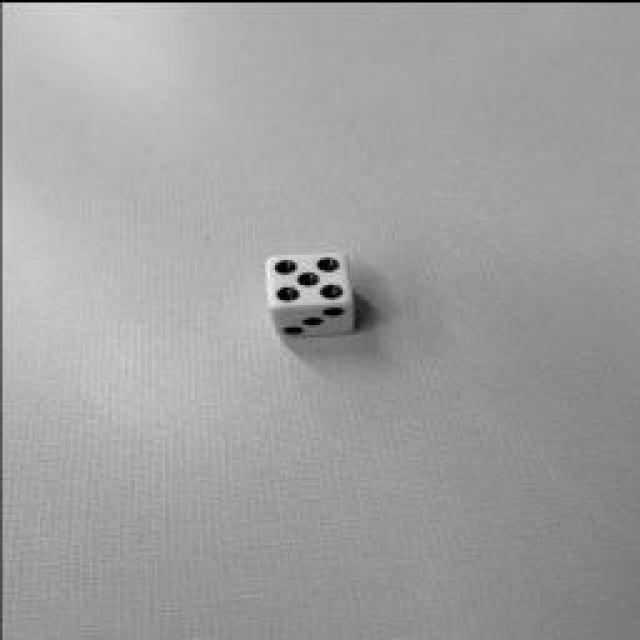dice_5: (265, 250, 350, 302)
